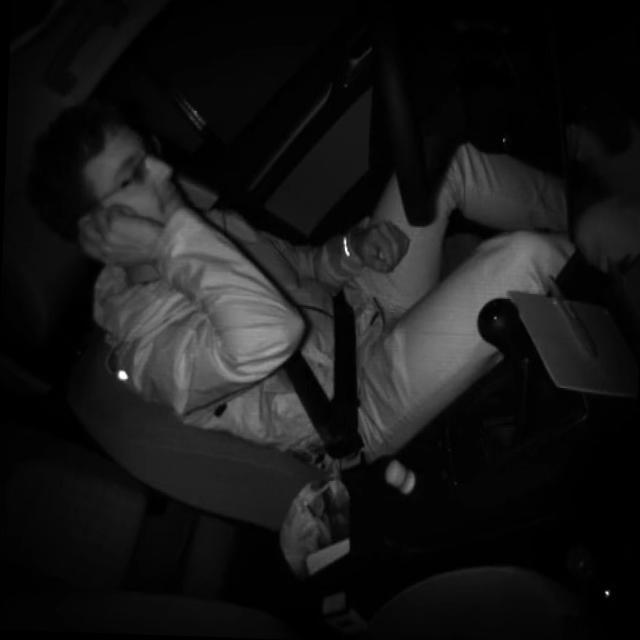pen: (540, 268, 606, 362)
